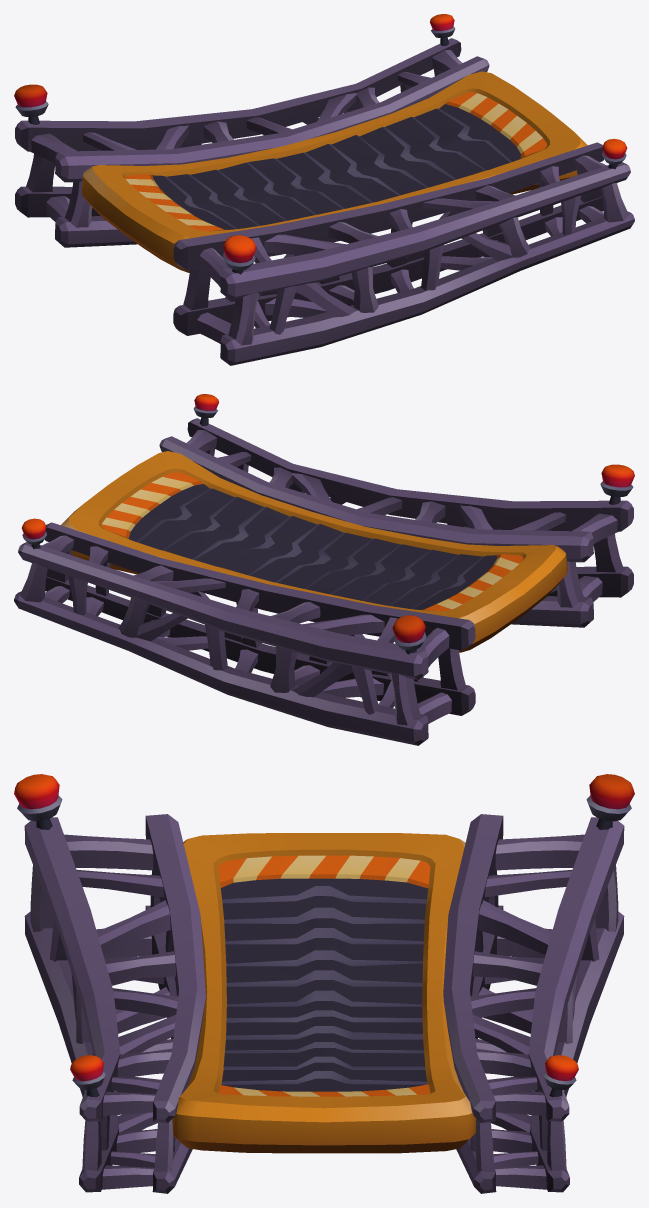
The model's file is SM_Platform_02.fbx.
The picture shows the model from 3 angles, top to bottom: view 1: azimuth 30°, elevation 25°; view 2: azimuth 150°, elevation 25°; view 3: azimuth 270°, elevation 25°; orthographic projection. The views are drawn at different scales.
Parts seen in each view (by area): view 1: SM_Platform_02; view 2: SM_Platform_02; view 3: SM_Platform_02.
Part boxes in pixels (x1,y1,x2,y2): SM_Platform_02: (14, 14, 634, 365); SM_Platform_02: (14, 394, 634, 745); SM_Platform_02: (14, 774, 634, 1193).
Size of the model in its own units: 7.03 by 2.16 by 6.35.
